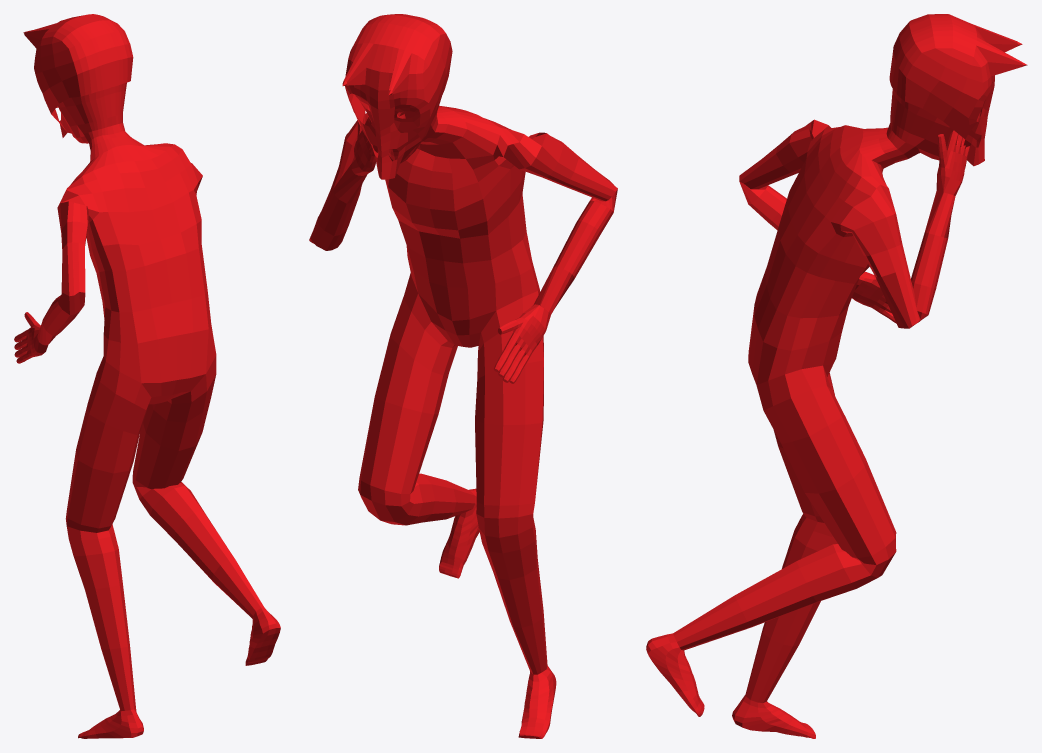
File: correrE_000084.obj
3 renders of one model, left to right at view 1: azimuth 30°, elevation 25°; view 2: azimuth 150°, elevation 25°; view 3: azimuth 270°, elevation 25°, orthographic. The views are drawn at different scales.
Parts seen in each view (by area): view 1: Plane.002_Plane.001; view 2: Plane.002_Plane.001; view 3: Plane.002_Plane.001.
Boxes of the visible parts, x1=… form: Plane.002_Plane.001: x1=14, y1=14, x2=280, y2=738; Plane.002_Plane.001: x1=309, y1=14, x2=617, y2=738; Plane.002_Plane.001: x1=646, y1=14, x2=1027, y2=738.
Size of the model in its own units: 2.11 by 6.69 by 3.11.
